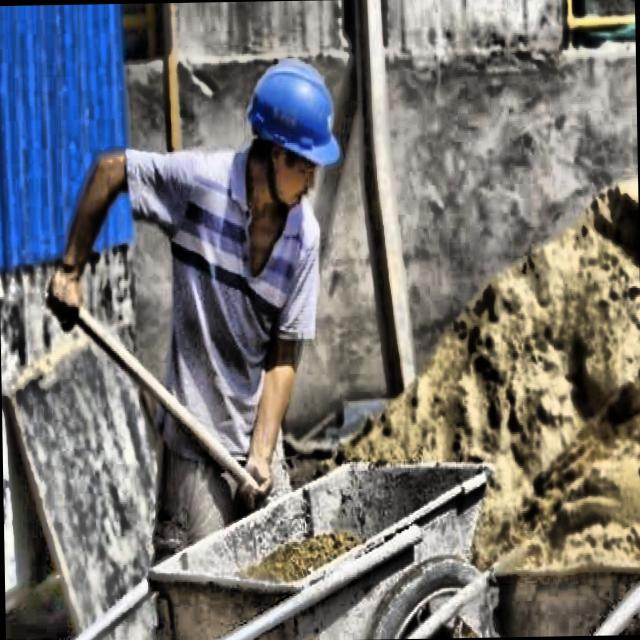helmet: (239, 56, 345, 216)
